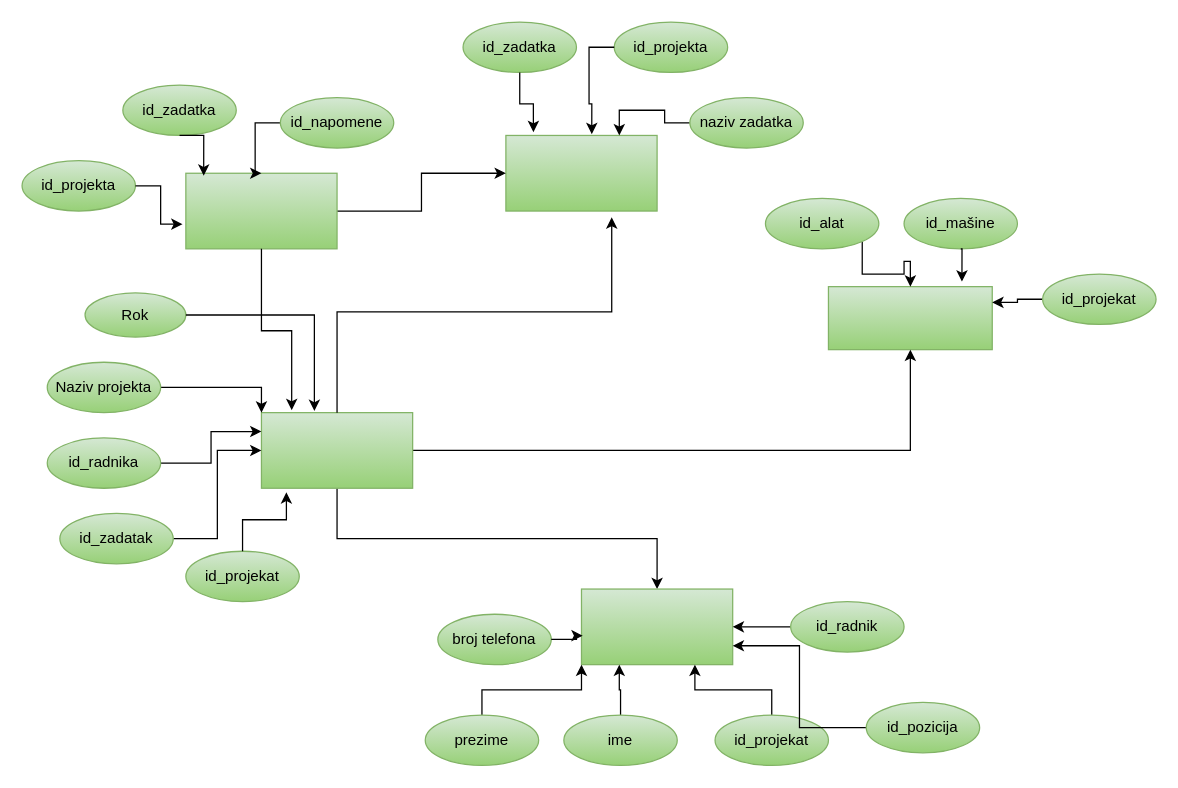
Some shapes in this 1178 by 788 pixel diagram are drawn without their labels. Each missing label, with the centre of its shape:
Materijali: pixel 909 317
Napomene: pixel 261 210
Projekat: pixel 336 449
Radnici: pixel 656 626
Zadatak: pixel 581 172
